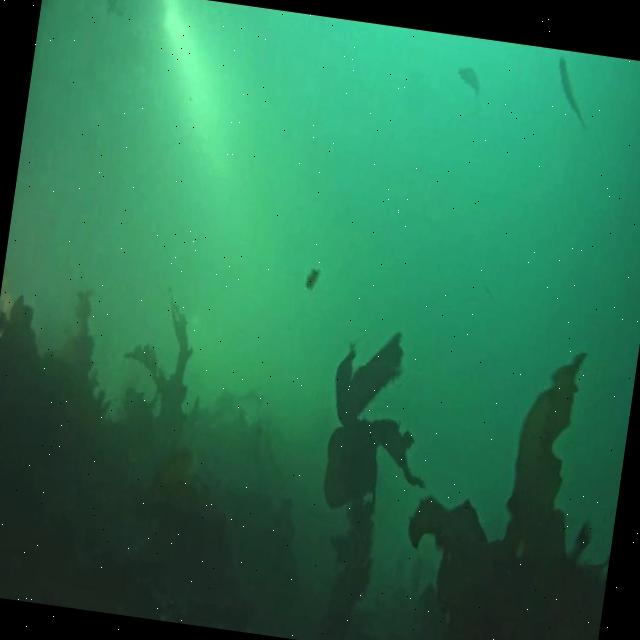fish: (547, 56, 596, 135), (453, 67, 485, 106)
